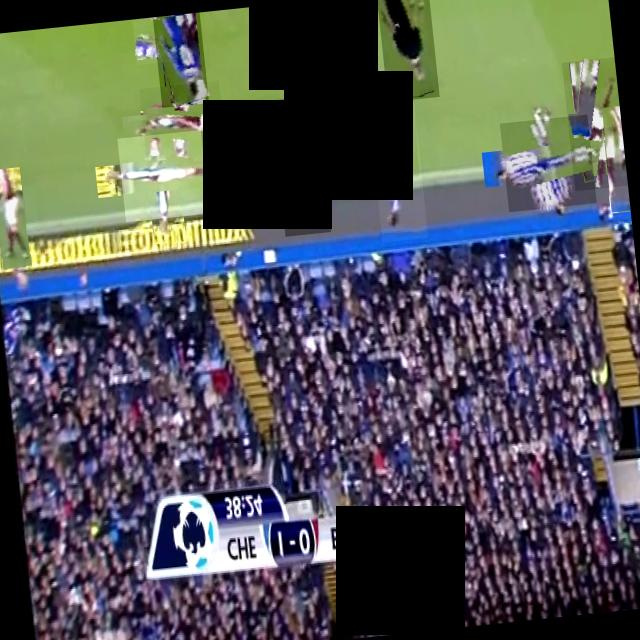referee: (375, 0, 438, 101)
soccer-player: (498, 113, 595, 211), (560, 56, 628, 190), (270, 94, 330, 236), (116, 128, 208, 220), (367, 101, 427, 241), (137, 80, 225, 168), (152, 12, 208, 106), (598, 104, 630, 214), (0, 165, 29, 269), (130, 13, 181, 64)
